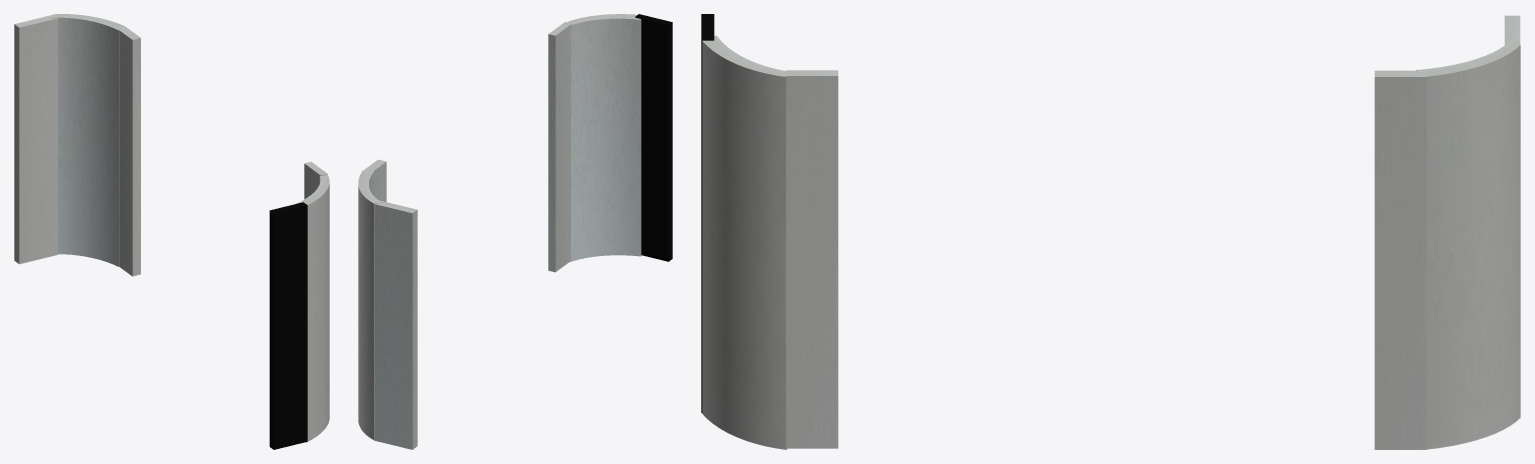
File: frontGlass.obj
3 views of the same model, side by side, from view 1: azimuth 30°, elevation 25°; view 2: azimuth 150°, elevation 25°; view 3: azimuth 270°, elevation 25° (orthographic). The views are drawn at different scales.
Visible parts, largest first — view 1: polySurface2 pasted__pCube4 group85, pCube6, frontGlass:pCube4polySurface5, pCube4 polySurface4, pCube7, polySurface3 pCube4; view 2: pCube4 polySurface4, pCube6, frontGlass:pCube4polySurface5, polySurface3 pCube4, polySurface2 pasted__pCube4 group85, pCube7; view 3: polySurface2 pasted__pCube4 group85, pCube4 polySurface4, pCube7, polySurface3 pCube4, frontGlass:pCube4polySurface5.
Part boxes in pixels (box(x1,y1,x2,y2)): polySurface2 pasted__pCube4 group85: box(51, 14, 124, 266); pCube6: box(14, 15, 57, 264); frontGlass:pCube4polySurface5: box(269, 202, 307, 449); pCube4 polySurface4: box(296, 174, 329, 442); pCube7: box(119, 26, 140, 276); polySurface3 pCube4: box(304, 161, 327, 199); pCube4 polySurface4: box(567, 14, 641, 262); pCube6: box(374, 200, 417, 449); frontGlass:pCube4polySurface5: box(635, 14, 672, 261); polySurface3 pCube4: box(548, 22, 571, 272); polySurface2 pasted__pCube4 group85: box(358, 171, 382, 439); pCube7: box(362, 159, 386, 201); polySurface2 pasted__pCube4 group85: box(1416, 41, 1520, 449); pCube4 polySurface4: box(702, 35, 787, 449); pCube7: box(1374, 70, 1426, 449); polySurface3 pCube4: box(786, 70, 838, 448); frontGlass:pCube4polySurface5: box(701, 14, 714, 412).
Size of the model in its own units: 2.83 by 7.94 by 15.73.
Materials: 6 (5 with a texture image).
